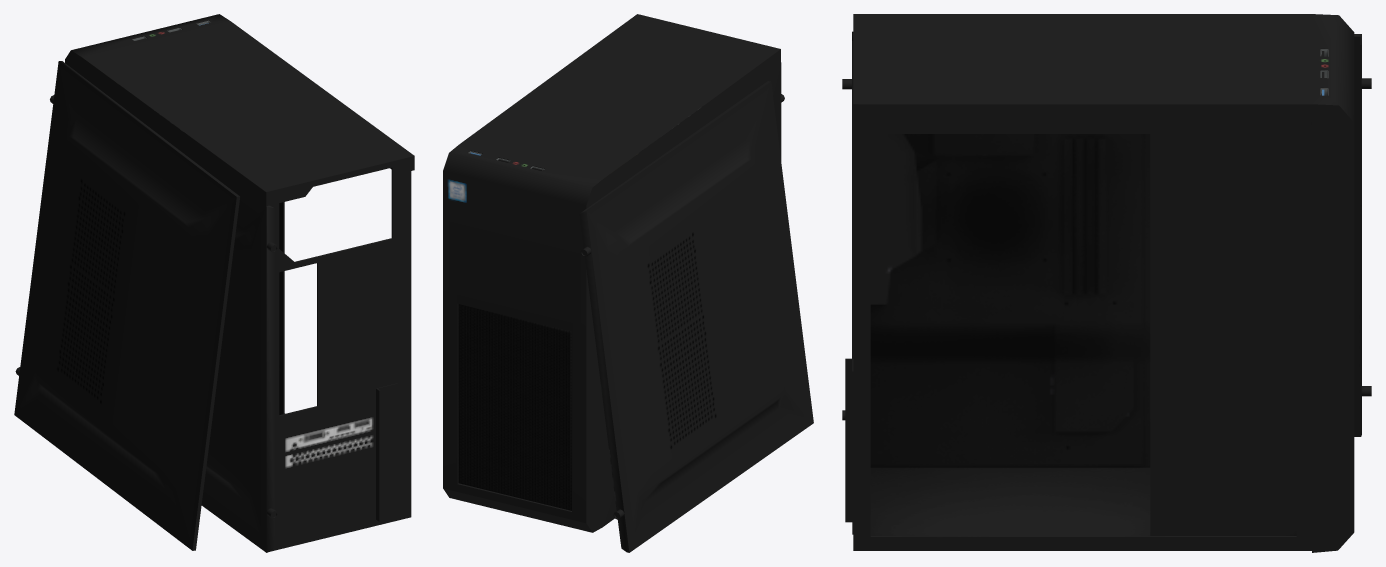
File: pc_case.glb
3 views of the same model, side by side, from view 1: azimuth 30°, elevation 25°; view 2: azimuth 150°, elevation 25°; view 3: azimuth 270°, elevation 25° (orthographic). The views are drawn at different scales.
Parts seen in each view (by area): view 1: cover_LP, skeleton_LP, upperwall_LP, detalka_LP, frontpanel_LP, frontwall_LP; view 2: cover_LP, frontpanel_LP, upperwall_LP, grid_LP; view 3: backwall_LP, frontwall_LP, upperwall_LP, skeleton_LP, frontpanel_LP, cover_LP, detalka_LP.
Part boxes in pixels (left/top/right/bottom): cover_LP: left=14, top=61, right=274, bottom=552; skeleton_LP: left=270, top=168, right=411, bottom=551; upperwall_LP: left=82, top=21, right=414, bottom=206; detalka_LP: left=376, top=383, right=397, bottom=521; frontpanel_LP: left=65, top=14, right=229, bottom=75; frontwall_LP: left=279, top=202, right=284, bottom=414; cover_LP: left=579, top=62, right=813, bottom=552; frontpanel_LP: left=443, top=144, right=602, bottom=532; upperwall_LP: left=460, top=14, right=780, bottom=192; grid_LP: left=458, top=304, right=571, bottom=510; backwall_LP: left=870, top=134, right=1150, bottom=467; frontwall_LP: left=1150, top=134, right=1296, bottom=535; upperwall_LP: left=853, top=14, right=1311, bottom=121; skeleton_LP: left=853, top=122, right=1311, bottom=550; frontpanel_LP: left=1312, top=14, right=1354, bottom=552; cover_LP: left=852, top=31, right=1361, bottom=436; detalka_LP: left=845, top=358, right=853, bottom=534.
Size of the model in its own units: 26.01 by 44.26 by 47.22.
Materials: 1 (1 with a texture image).
